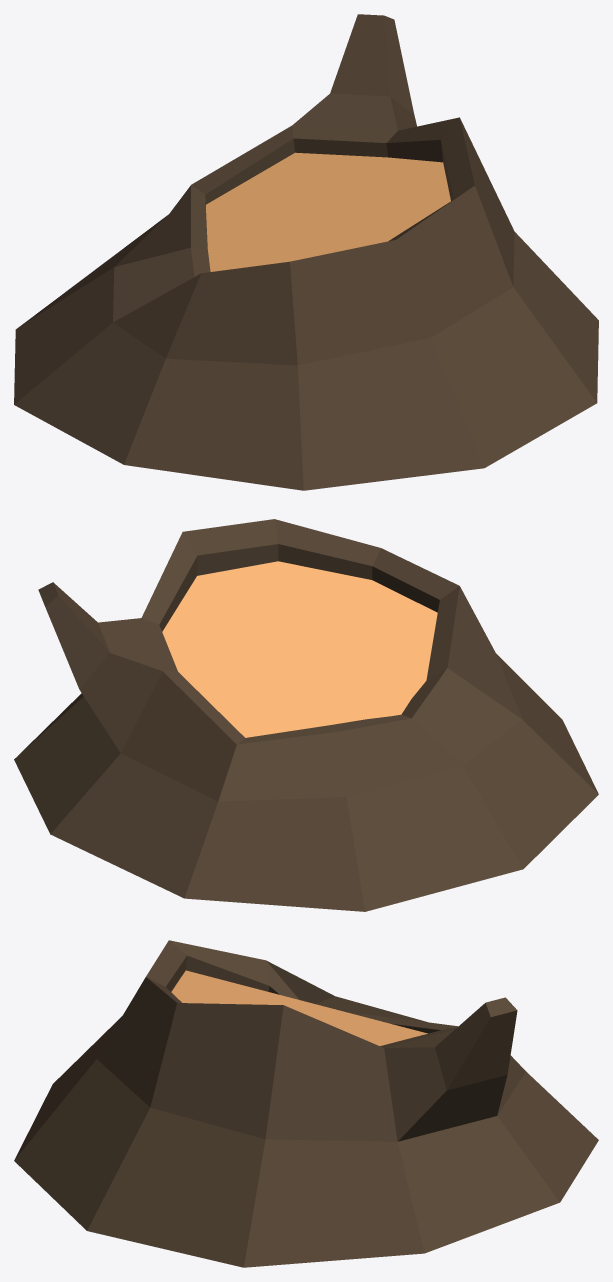
File: PUTOL NA PUNO.fbx
3 renders of one model, top to bottom at view 1: azimuth 30°, elevation 25°; view 2: azimuth 150°, elevation 25°; view 3: azimuth 270°, elevation 25°, orthographic. The views are drawn at different scales.
Parts seen in each view (by area): view 1: Log1; view 2: Log1; view 3: Log1.
Boxes of the visible parts, x1,y1,x2,y2 form: Log1: [14, 14, 598, 490]; Log1: [14, 519, 598, 911]; Log1: [14, 940, 598, 1267].
Size of the model in its own units: 698 by 314 by 711.
